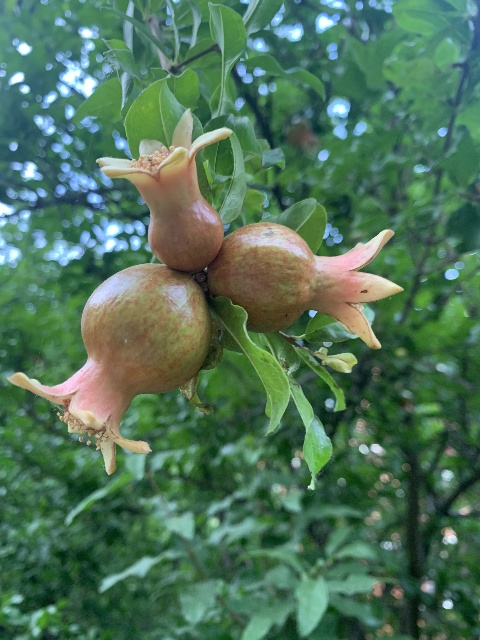early-fruit: (7, 263, 212, 476), (208, 222, 404, 349), (95, 109, 231, 271)
